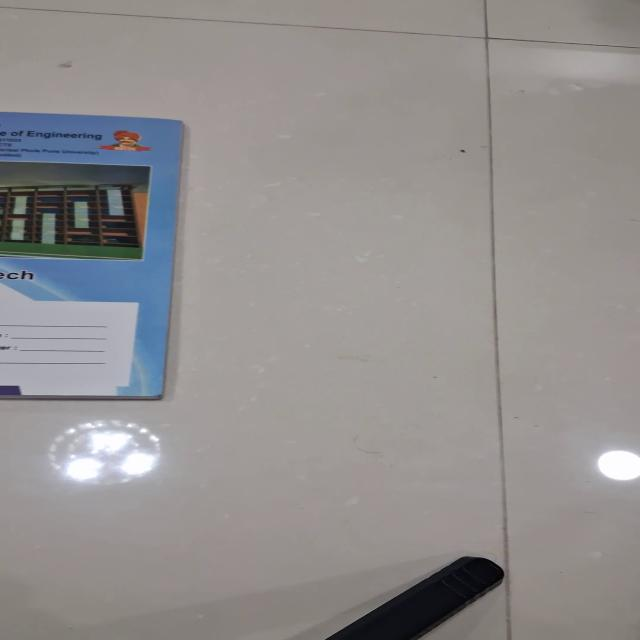paper: (0, 111, 184, 400)
